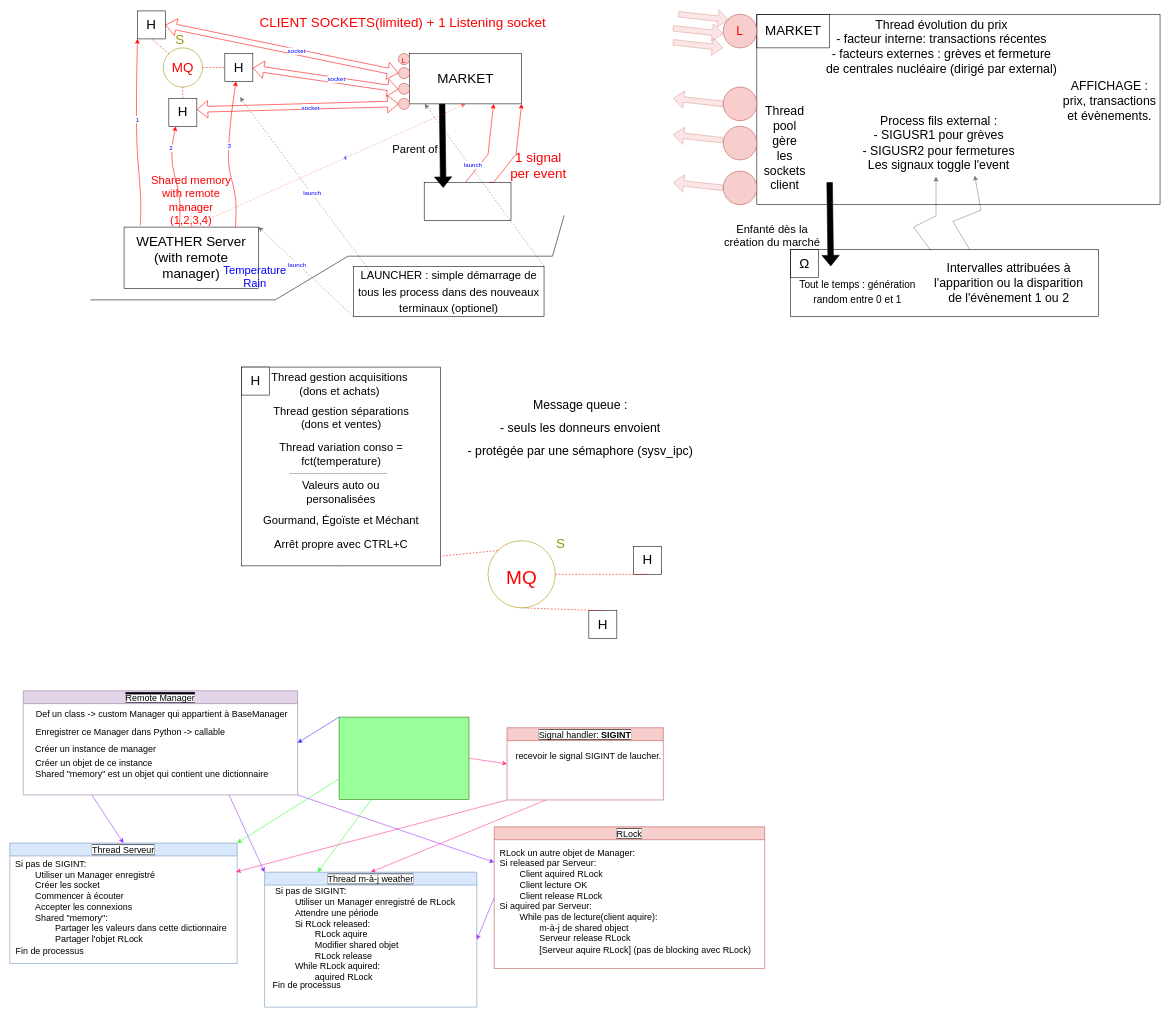
This 1170x1017 diagram has some shape labels left out. The centre of each missing label's shape, as x and y in pixels:
"EXTERNAL" belongs at [467,201].
"weather_server.py" belongs at [404,758].
